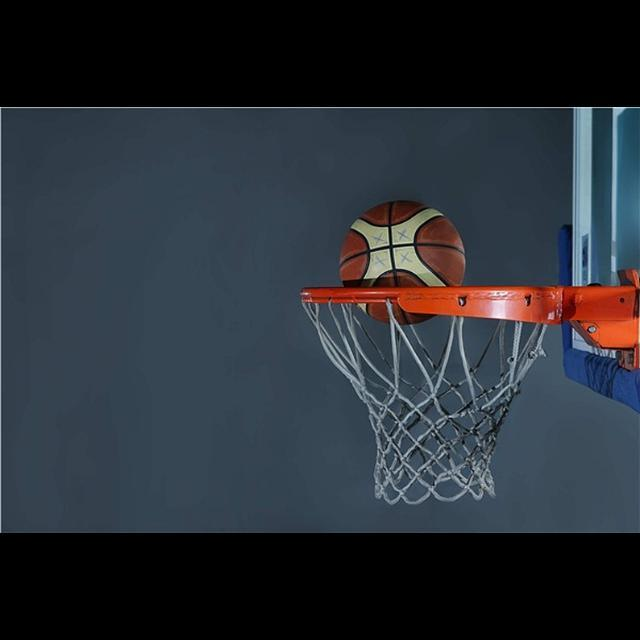basketball: (340, 201, 466, 325)
rim: (300, 284, 560, 504)
